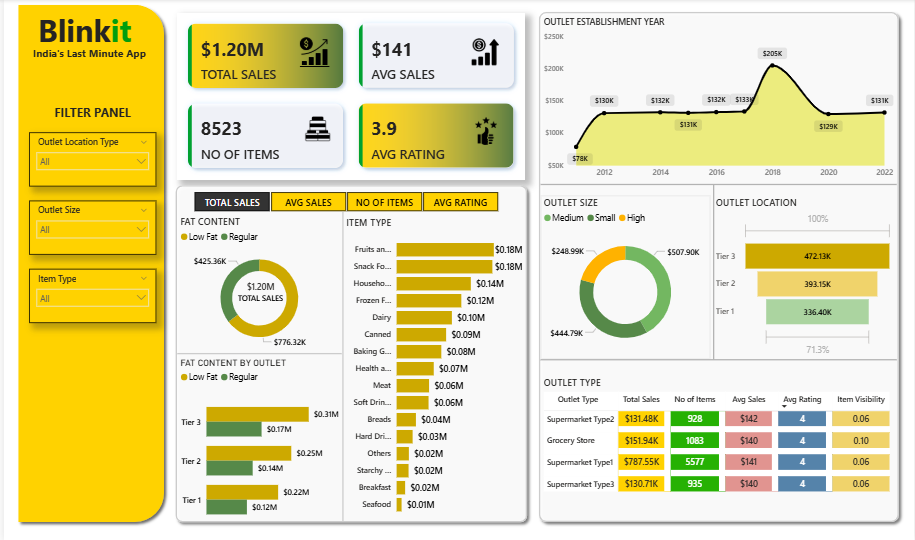

Layout of this report page (visuals, bound fields, positions):
{"tool":"powerbi","page":{"name":"Page 1","canvas":[1427,850],"ordinal":0},"visuals":[{"type":"shape","box":[13.3,0,246.7,828.3],"z":0},{"type":"textbox","box":[21.2,68.8,225,33.8],"z":1000},{"type":"cardVisual","fields":{"Data":["BlinkIT Grocery Data.Total Sales","BlinkIT Grocery Data.Avg Sales","BlinkIT Grocery Data.No of items","BlinkIT Grocery Data.Avg Rating"]},"box":[271.7,21.7,545,261.7],"z":2000},{"type":"shape","box":[260,282.9,568.6,545.7],"z":3000},{"type":"donutChart","title":"FAT CONTENT","fields":{"Y":["BlinkIT Grocery Data.TOTAL SALES"],"Category":["BlinkIT Grocery Data.Item Fat Content"]},"box":[271.5,337.7,257.7,218.5],"z":4000},{"type":"slicer","fields":{"Values":["Metrics.Metrics"]},"box":[273.3,296.7,525,40.8],"z":5000},{"type":"cardVisual","fields":{"Data":["BlinkIT Grocery Data.TOTAL SALES"]},"box":[348.3,425,106.7,60],"z":6000},{"type":"clusteredBarChart","title":"FAT CONTENT BY OUTLET","fields":{"Y":["BlinkIT Grocery Data.TOTAL SALES"],"Category":["BlinkIT Grocery Data.Outlet Location Type"],"Series":["BlinkIT Grocery Data.Item Fat Content"]},"box":[271.7,561.7,258.3,278.3],"z":7000},{"type":"shape","box":[271.5,550,257.7,12.3],"z":8000},{"type":"textbox","box":[21.2,11.2,210,75],"z":9000},{"type":"shape","box":[525,333.3,12.5,484.2],"z":10000},{"type":"clusteredBarChart","title":"ITEM TYPE","fields":{"Y":["BlinkIT Grocery Data.TOTAL SALES"],"Category":["BlinkIT Grocery Data.Item Type"]},"box":[531.4,338.6,285.7,480],"z":11000},{"type":"shape","box":[828.3,11.7,581.7,816.7],"z":12000},{"type":"lineChart","title":"OUTLET ESTABLISHMENT YEAR","fields":{"Y":["BlinkIT Grocery Data.TOTAL SALES"],"Category":["BlinkIT Grocery Data.Outlet Establishment Year"]},"box":[841,26,558,265],"z":13000},{"type":"shape","box":[841,285,558,12],"z":14000},{"type":"donutChart","title":"OUTLET SIZE","fields":{"Y":["BlinkIT Grocery Data.TOTAL SALES"],"Category":["BlinkIT Grocery Data.Outlet Size"]},"box":[841,307,266,258],"z":15000},{"type":"shape","box":[1103,291,16,274],"z":16000},{"type":"funnel","title":"OUTLET LOCATION","fields":{"Category":["BlinkIT Grocery Data.Outlet Location Type"],"Y":["Sum(BlinkIT Grocery Data.Sales)"]},"box":[1111,307,287,258],"z":17000},{"type":"shape","box":[841,557,558,15],"z":18000},{"type":"pivotTable","title":"OUTLET TYPE","fields":{"Values":["BlinkIT Grocery Data.TOTAL SALES","BlinkIT Grocery Data.NO OF ITEMS","BlinkIT Grocery Data.AVG SALES","BlinkIT Grocery Data.AVG RATING","Avg(BlinkIT Grocery Data.Item Visibility)"],"Rows":["BlinkIT Grocery Data.Outlet Type"]},"box":[841,591,558,227],"z":19000},{"type":"slicer","fields":{"Values":["BlinkIT Grocery Data.Outlet Location Type"]},"box":[40,208.4,198.8,85],"z":20000},{"type":"slicer","fields":{"Values":["BlinkIT Grocery Data.Outlet Size"]},"box":[40,315.3,198.8,85],"z":21000},{"type":"slicer","fields":{"Values":["BlinkIT Grocery Data.Item Type"]},"box":[40,422.2,198.8,85],"z":22000},{"type":"textbox","box":[40,158.8,198.8,37.5],"z":23000}]}

Visuals, with their boxes in screenshot pixels (x1, y1, x2, y2), scaled from the page's 1427x850 canvas onto the 915x540 screenshot:
shape: 9,0,167,526
textbox: 14,44,158,65
cardVisual - BlinkIT Grocery Data.Total Sales x BlinkIT Grocery Data.Avg Sales: 174,14,524,180
shape: 167,180,531,526
"FAT CONTENT" donutChart: 174,215,339,353
slicer - Metrics.Metrics: 175,188,512,214
cardVisual - BlinkIT Grocery Data.TOTAL SALES: 223,270,292,308
"FAT CONTENT BY OUTLET" clusteredBarChart: 174,357,340,534
shape: 174,349,339,357
textbox: 14,7,148,55
shape: 337,212,345,519
"ITEM TYPE" clusteredBarChart: 341,215,524,520
shape: 531,7,904,526
"OUTLET ESTABLISHMENT YEAR" lineChart: 539,17,897,185
shape: 539,181,897,189
"OUTLET SIZE" donutChart: 539,195,710,359
shape: 707,185,718,359
"OUTLET LOCATION" funnel: 712,195,896,359
shape: 539,354,897,363
"OUTLET TYPE" pivotTable: 539,375,897,520
slicer - BlinkIT Grocery Data.Outlet Location Type: 26,132,153,186
slicer - BlinkIT Grocery Data.Outlet Size: 26,200,153,254
slicer - BlinkIT Grocery Data.Item Type: 26,268,153,322
textbox: 26,101,153,125
